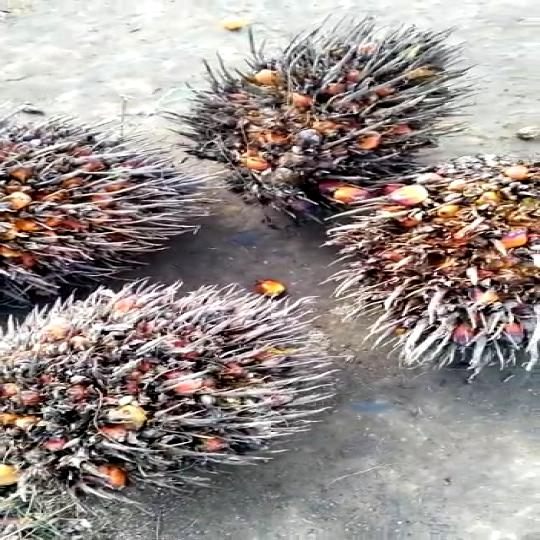terlalu masak: (0, 278, 345, 499), (174, 12, 476, 212)
